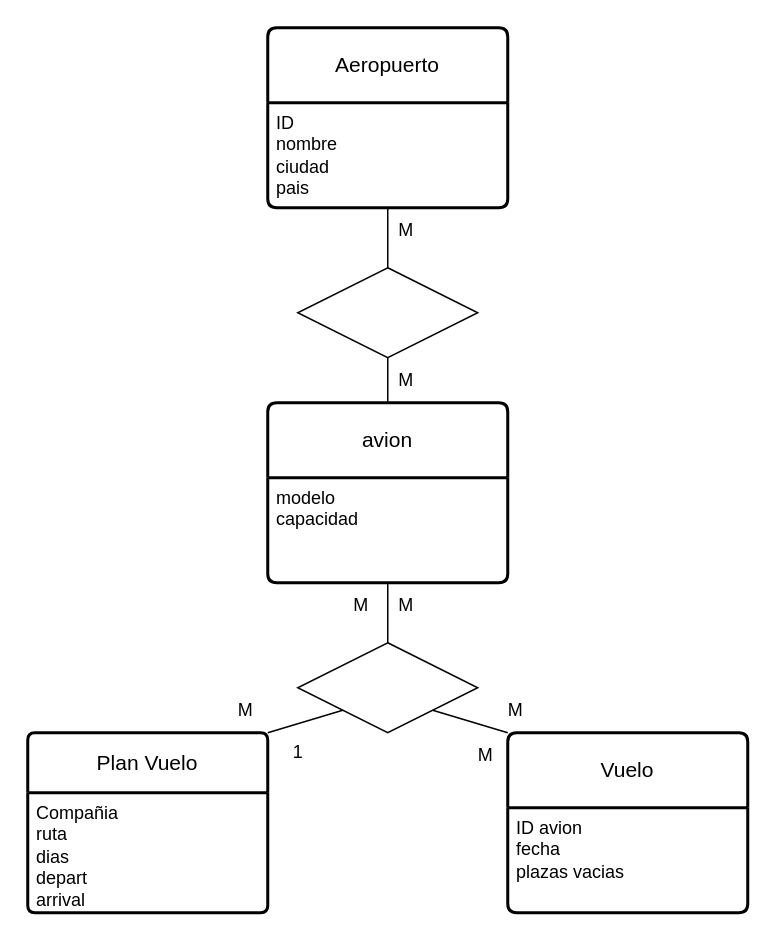
Some shapes in this 774 by 939 pixel diagram are drawn without their labels. Here are the shapes that lost their labels. From the top down, the centre of each, then its label:
the point at 387,312: Usa
the point at 387,687: necesita
